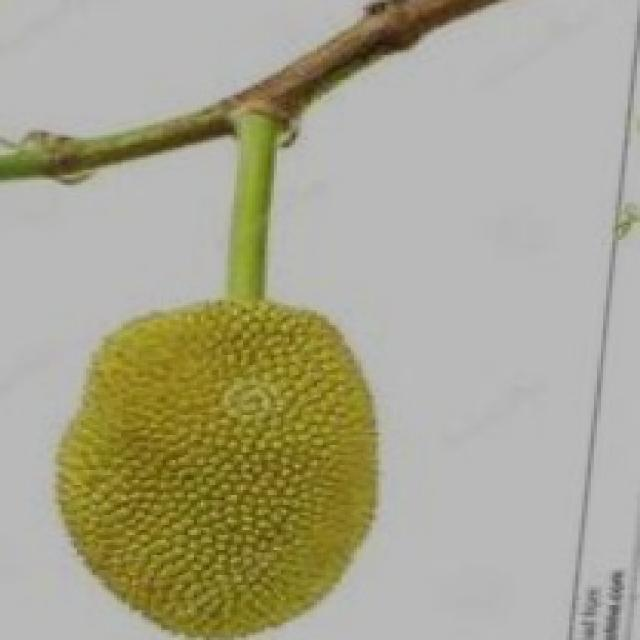Fruit: (21, 277, 403, 640)
